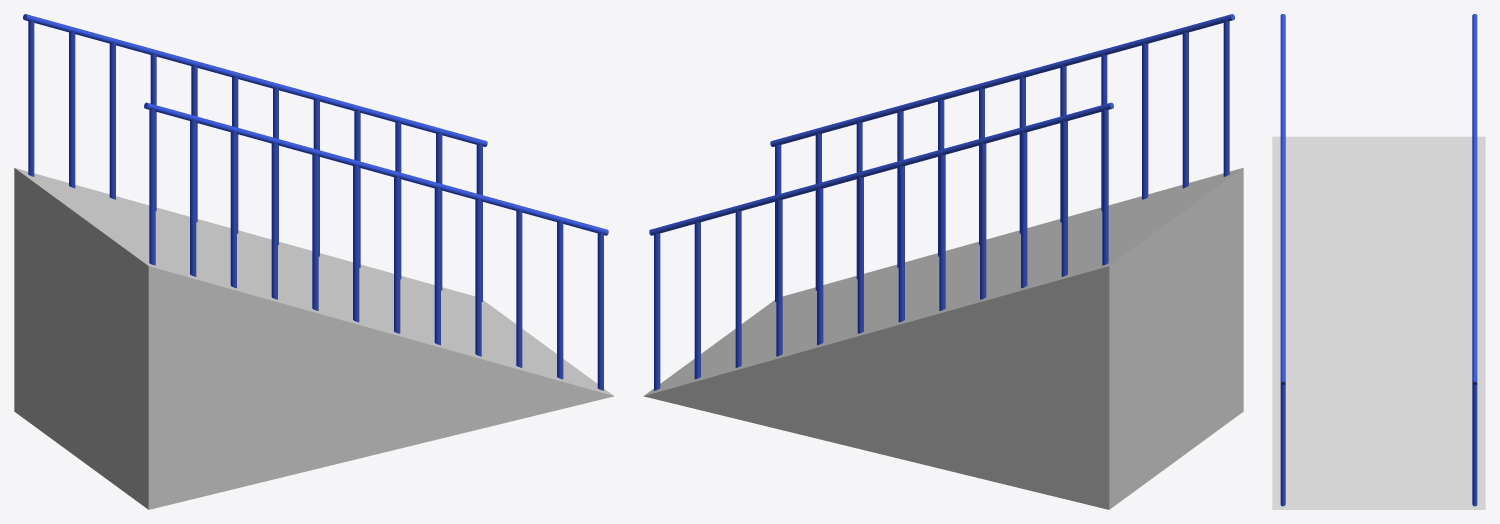
The model's file is ramp.fbx.
3 views of the same model, side by side, from view 1: azimuth 30°, elevation 25°; view 2: azimuth 150°, elevation 25°; view 3: azimuth 270°, elevation 25° (orthographic). The views are drawn at different scales.
Visible parts, largest first — view 1: Cube.002, Cube.003; view 2: Cube.002, Cube.003; view 3: Cube.002, Cube.003.
Part boxes in pixels (<box>): Cube.002: <box>14,168,614,509</box>; Cube.003: <box>23,14,608,390</box>; Cube.002: <box>643,168,1243,509</box>; Cube.003: <box>649,14,1234,390</box>; Cube.002: <box>1272,136,1485,509</box>; Cube.003: <box>1280,14,1477,506</box>.
Size of the model in its own units: 1200 by 987 by 600.
